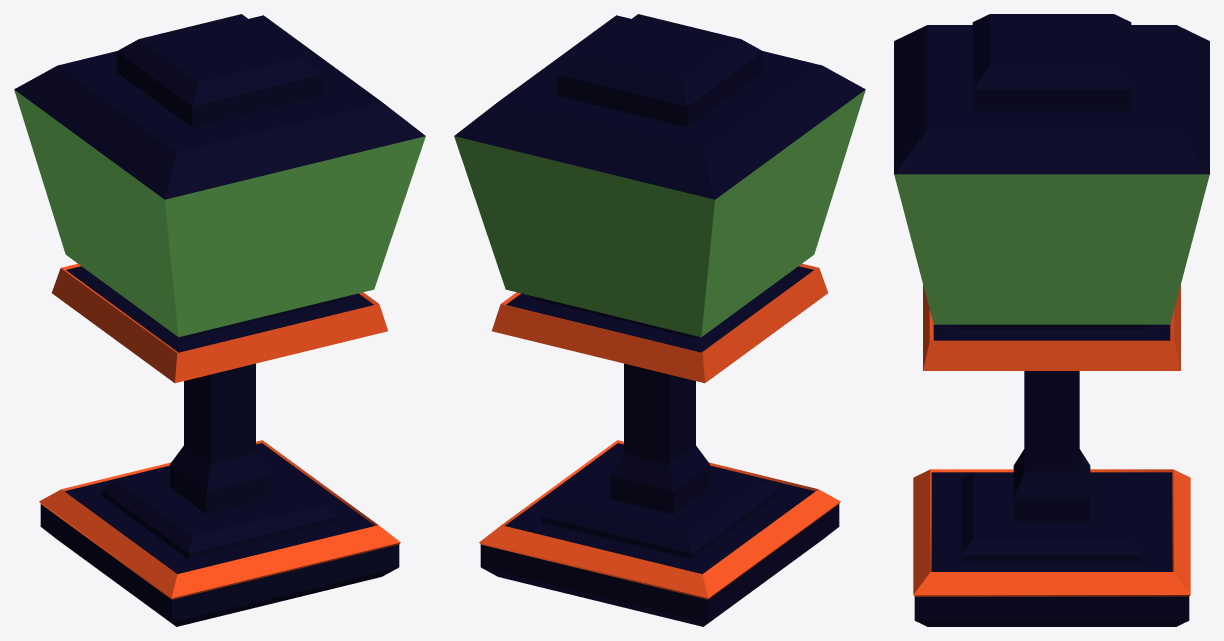
Rendered from Lamp .obj.
3 renders of one model, left to right at view 1: azimuth 30°, elevation 25°; view 2: azimuth 150°, elevation 25°; view 3: azimuth 270°, elevation 25°, orthographic. The views are drawn at different scales.
Visible parts, largest first — view 1: Cube_Cube.001, Cube_Cube.002, Cube_Cube.001_Plate.002, Cube_Cube.001_Plate; view 2: Cube_Cube.001, Cube_Cube.002, Cube_Cube.001_Plate.002, Cube_Cube.001_Plate; view 3: Cube_Cube.001, Cube_Cube.002, Cube_Cube.001_Plate, Cube_Cube.001_Plate.002.
Part boxes in pixels (x1,y1,x2,y2): Cube_Cube.001: (14,14,425,626); Cube_Cube.002: (14,90,425,337); Cube_Cube.001_Plate.002: (52,263,387,383); Cube_Cube.001_Plate: (39,440,400,599); Cube_Cube.001: (454,14,865,626); Cube_Cube.002: (454,90,865,337); Cube_Cube.001_Plate.002: (492,263,827,383); Cube_Cube.001_Plate: (479,440,840,599); Cube_Cube.001: (894,14,1209,626); Cube_Cube.002: (894,174,1209,324); Cube_Cube.001_Plate: (913,469,1190,596); Cube_Cube.001_Plate.002: (923,285,1180,370).
Size of the model in its own units: 2.3 by 4.29 by 2.3.
